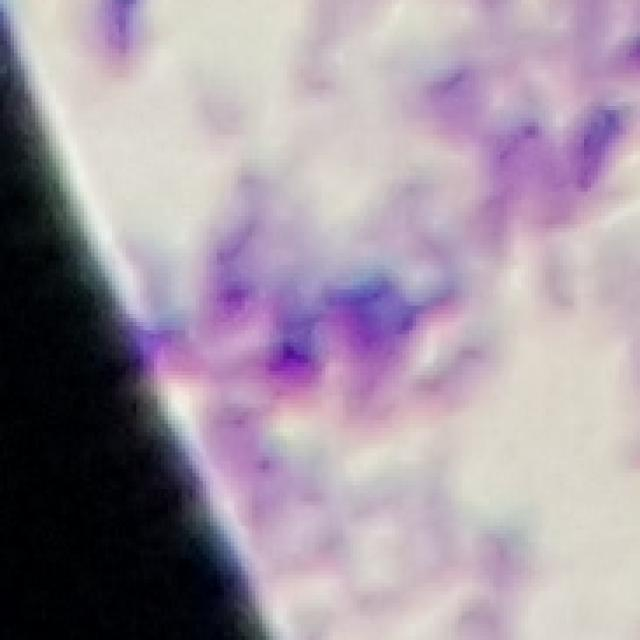non-sperm: (165, 212, 471, 408)
